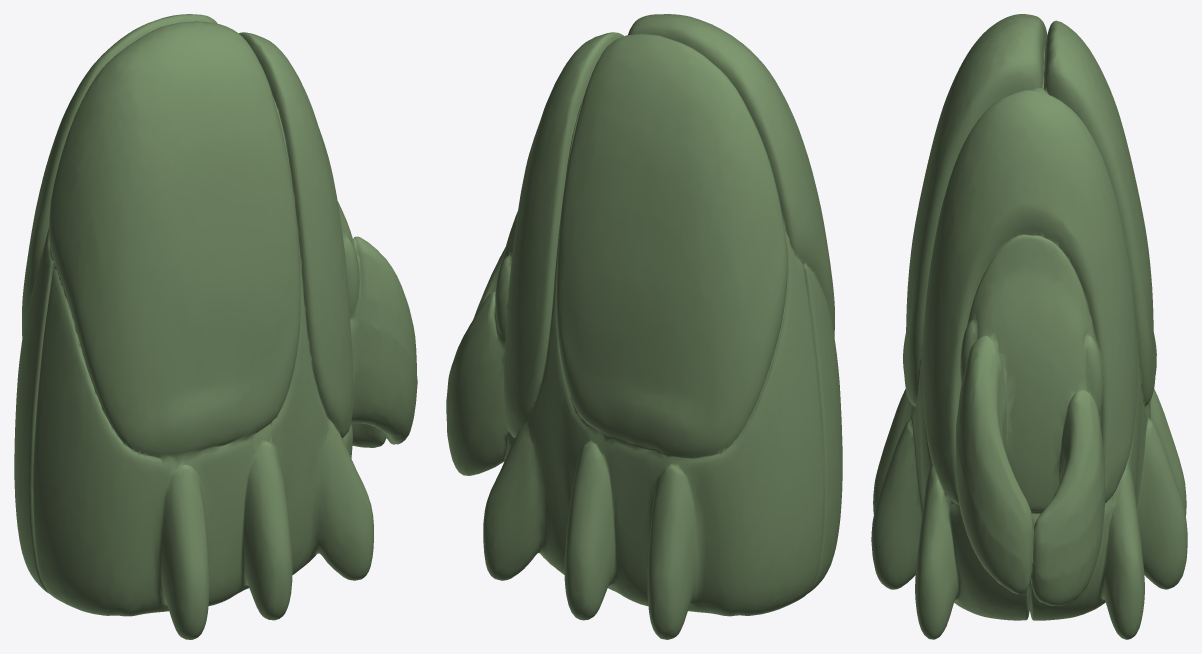
File: beetle-friend.glb
The picture shows the model from 3 angles, left to right: view 1: azimuth 30°, elevation 25°; view 2: azimuth 150°, elevation 25°; view 3: azimuth 270°, elevation 25°; orthographic projection.
Parts seen in each view (by area): view 1: tripo_printable_source; view 2: tripo_printable_source; view 3: tripo_printable_source.
Part boxes in pixels (x1,y1,x2,y2): tripo_printable_source: [14, 14, 417, 639]; tripo_printable_source: [446, 14, 842, 639]; tripo_printable_source: [871, 14, 1187, 639].
Bounding box in the file's own units: 70 × 100 × 52.02.
